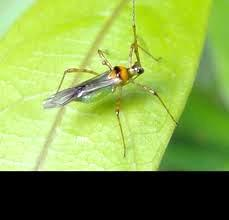Helopeltis-insect: (43, 57, 149, 112)
